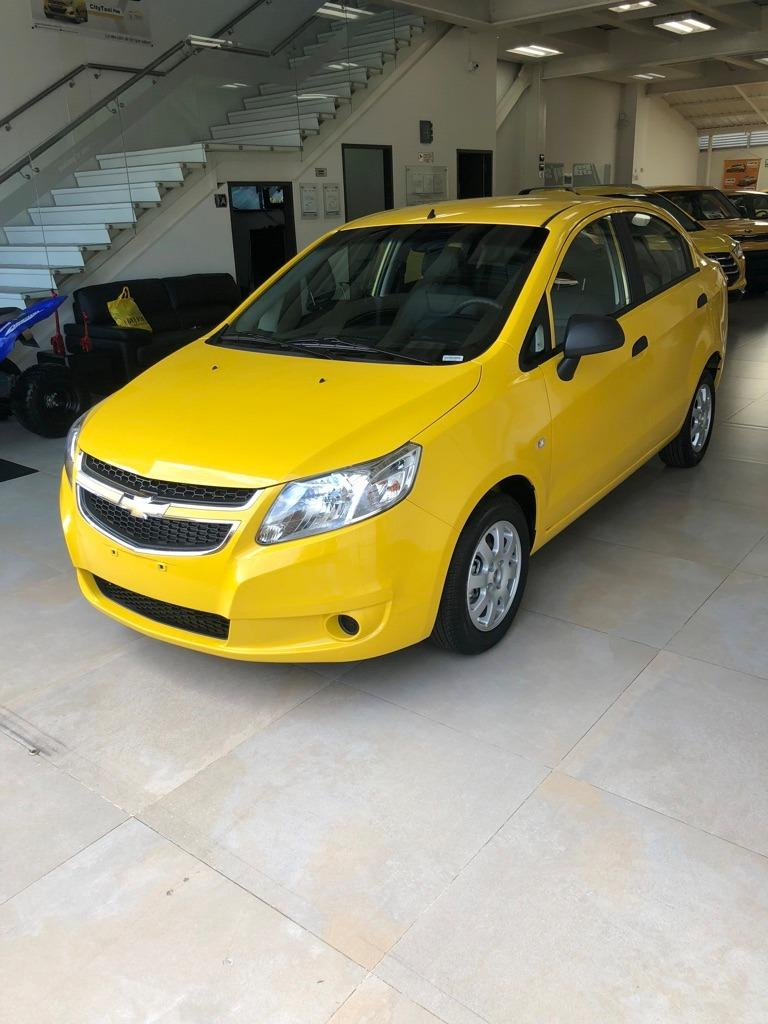taxi: (94, 198, 768, 646)
